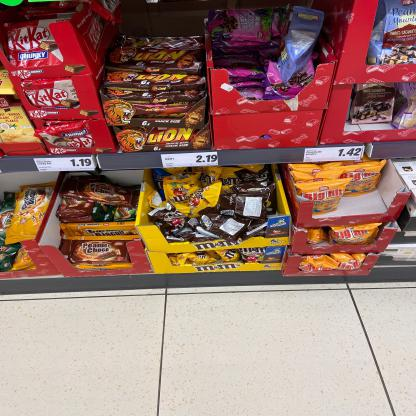prtg: (304, 147, 364, 163), (34, 158, 96, 173), (162, 153, 219, 169)
